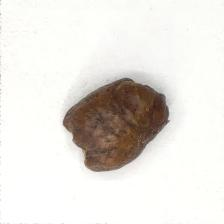NG: (62, 119, 104, 171)
